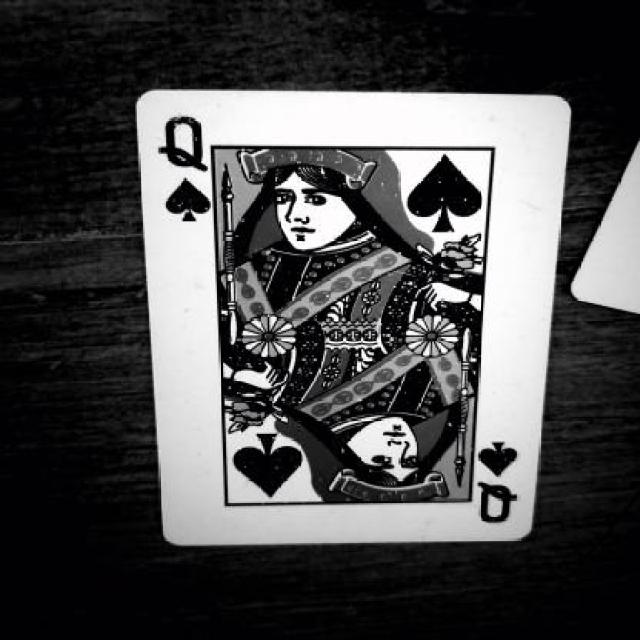QS: (156, 102, 230, 242), (470, 427, 547, 536)
